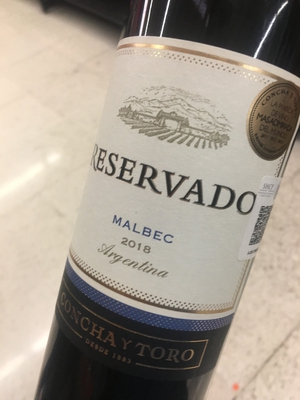reservado malbec: (49, 6, 297, 394)
